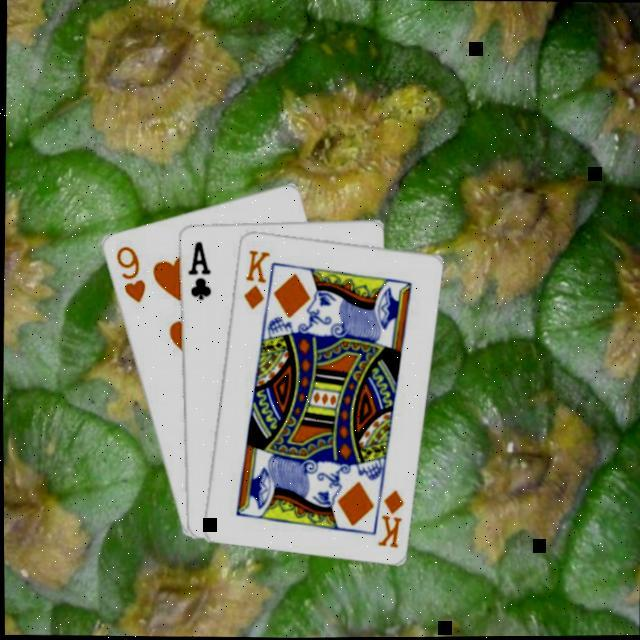9H: (111, 242, 148, 307)
AC: (183, 239, 213, 303)
KD: (239, 246, 272, 313), (374, 486, 405, 551)
